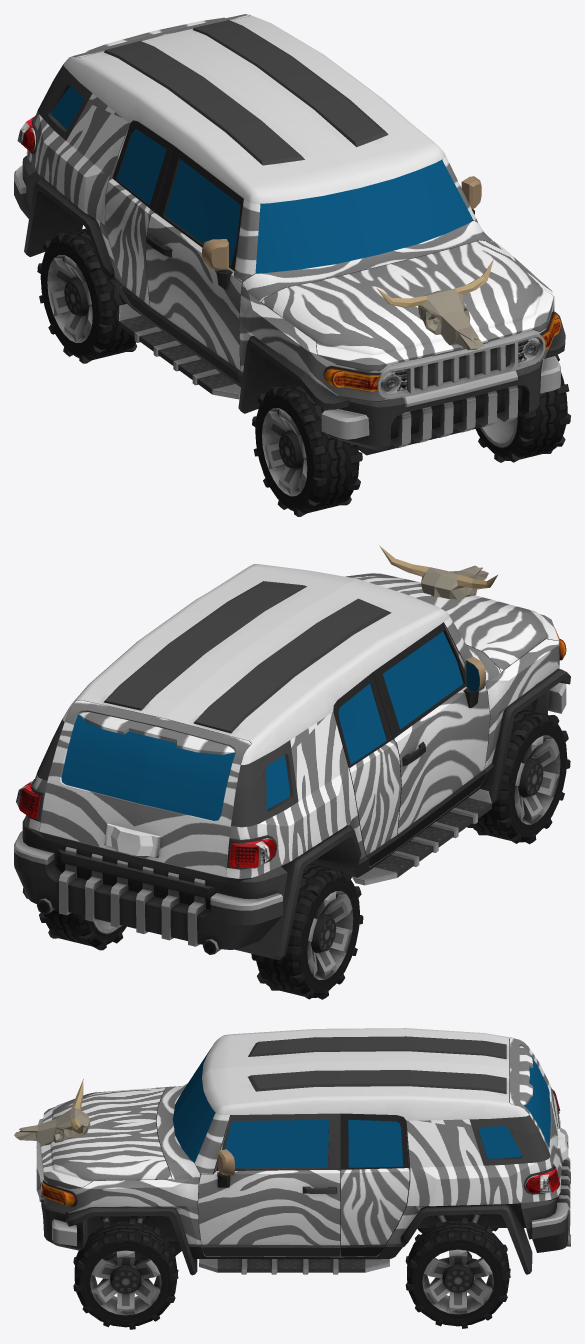
Rendered from Car30.fbx.
The picture shows the model from 3 angles, top to bottom: view 1: azimuth 30°, elevation 25°; view 2: azimuth 150°, elevation 25°; view 3: azimuth 270°, elevation 25°; orthographic projection. The views are drawn at different scales.
Parts seen in each view (by area): view 1: Roof, Body, Hood, Front_Glass_, Offroad_2_Door_FR, FrontBumper, Tire_3, Tire_2, Offroad_2_Door_RR, Side_Glass__2, Tire_1, Offroad_2_LeftBumper_2__1_ (+9 smaller); view 2: Roof, Body, BackBumper, Trunk, Offroad_2_Door_FR, Back_Glass_, Hood, Tire_2, Offroad_2_Door_RR, Tire_3, Side_Glass__2, Offroad_2_LeftBumper_2__1_ (+9 smaller); view 3: Roof, Body, Offroad_2_Door_FR_1, Hood, Offroad_2_Door_RR_1, Tire, Tire_1, Side_Glass__4, Metal_1, Metal, BackBumper, Trunk (+10 smaller).
Boxes of the visible parts, box(x1,y1,x2,y2) form: Roof: box(53, 15, 477, 282); Body: box(24, 81, 565, 455); Hood: box(261, 240, 553, 370); Front_Glass_: box(255, 160, 472, 273); Offroad_2_Door_FR: box(146, 146, 243, 383); FrontBumper: box(321, 356, 560, 450); Tire_3: box(252, 382, 362, 516); Tire_2: box(37, 228, 136, 363); Offroad_2_Door_RR: box(105, 121, 173, 320); Side_Glass__2: box(165, 159, 240, 263); Tire_1: box(475, 355, 570, 462); Offroad_2_LeftBumper_2__1_: box(119, 304, 240, 399); Roof: box(52, 564, 472, 789); Body: box(22, 638, 570, 959); BackBumper: box(14, 815, 287, 954); Trunk: box(39, 700, 251, 876); Offroad_2_Door_FR: box(372, 623, 489, 849); Back_Glass_: box(61, 714, 235, 820); Hood: box(346, 573, 558, 671); Tire_2: box(251, 863, 363, 999); Offroad_2_Door_RR: box(333, 672, 401, 866); Tire_3: box(467, 709, 570, 844); Side_Glass__2: box(383, 631, 463, 729); Offroad_2_LeftBumper_2__1_: box(352, 789, 491, 885); Roof: box(195, 1028, 538, 1173); Body: box(36, 1055, 560, 1275); Offroad_2_Door_FR_1: box(198, 1113, 340, 1256); Hood: box(40, 1087, 171, 1188); Offroad_2_Door_RR_1: box(341, 1113, 409, 1256); Tire: box(405, 1217, 510, 1328); Tire_1: box(73, 1218, 178, 1329); Side_Glass__4: box(224, 1119, 328, 1168); Metal_1: box(90, 1250, 161, 1315); Metal: box(422, 1249, 493, 1314); BackBumper: box(521, 1128, 570, 1252); Trunk: box(509, 1038, 568, 1191).
Bounding box in the file's own units: 322 × 310 × 706.
